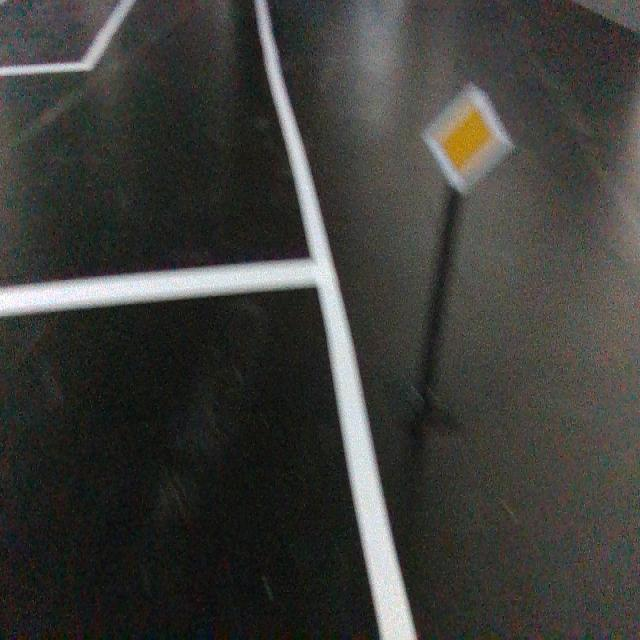priority-sign: (421, 81, 515, 196)
